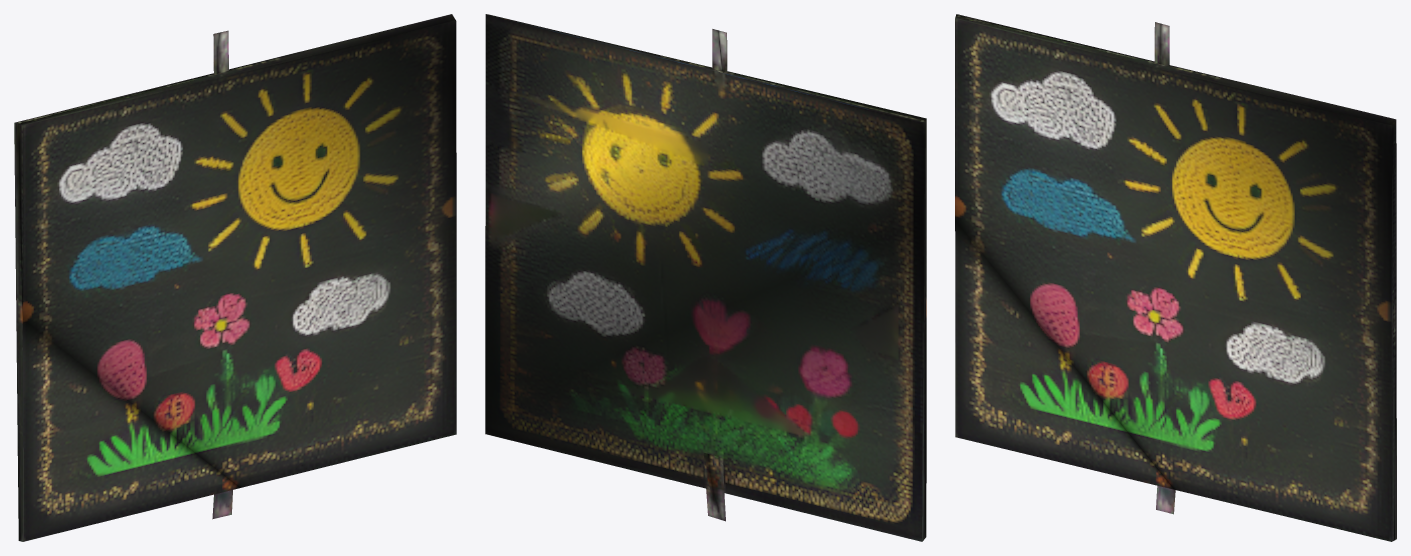
Rendered from all  kids_paintings1.fbx.
The picture shows the model from 3 angles, left to right: view 1: azimuth 30°, elevation 25°; view 2: azimuth 150°, elevation 25°; view 3: azimuth 330°, elevation 25°; orthographic projection.
Visible parts, largest first — view 1: all kids_paintings1; view 2: all kids_paintings1; view 3: all kids_paintings1.
Part boxes in pixels (x1,y1,x2,y2): all kids_paintings1: (14,14,456,541); all kids_paintings1: (485,14,926,541); all kids_paintings1: (955,14,1396,541).
Bounding box in the file's own units: 136 × 144 × 3.04.
Materials: 1 (1 with a texture image).
